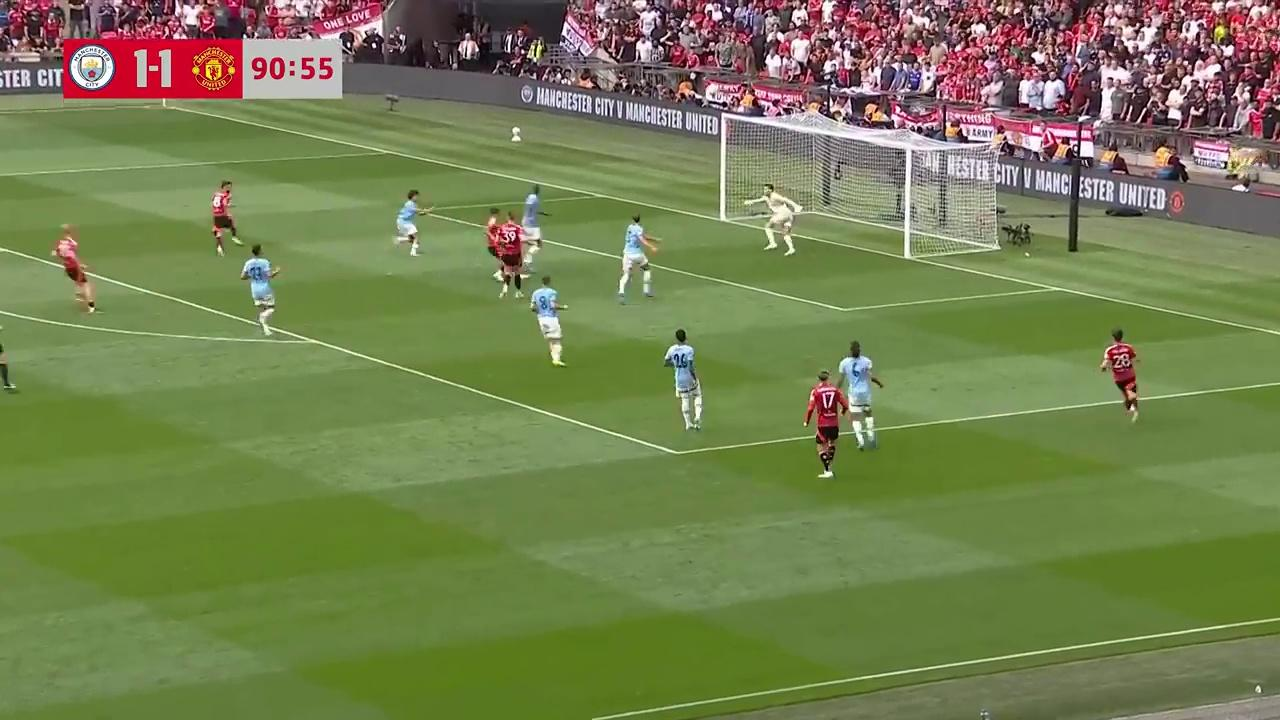player: (840, 341, 884, 447), (805, 377, 848, 479), (51, 221, 97, 312), (663, 329, 702, 432), (1098, 327, 1140, 422), (239, 243, 281, 334), (617, 214, 657, 303), (529, 275, 568, 366), (753, 181, 795, 256), (395, 189, 436, 256), (497, 215, 527, 299), (485, 208, 516, 288), (211, 180, 242, 255), (394, 190, 424, 257), (522, 184, 548, 252)
